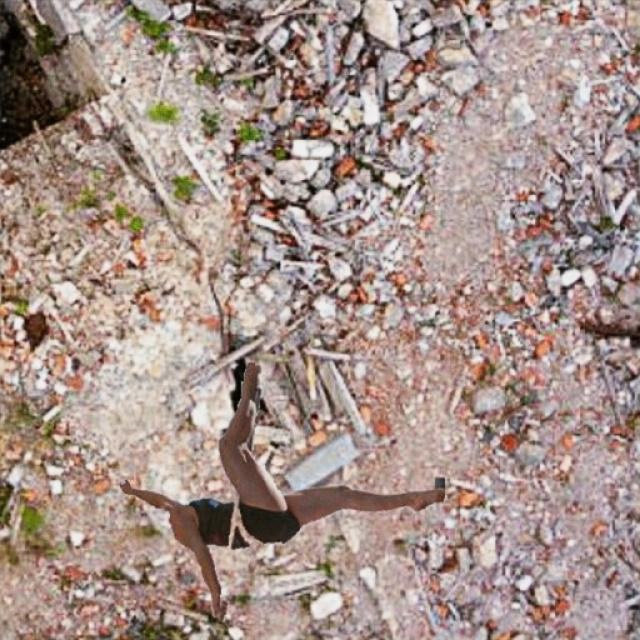Person in Rubble: (120, 362, 444, 622)
